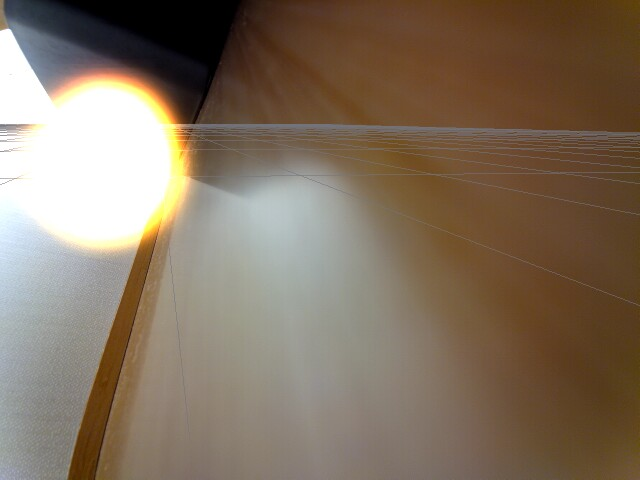firebig: (8, 63, 209, 272)
